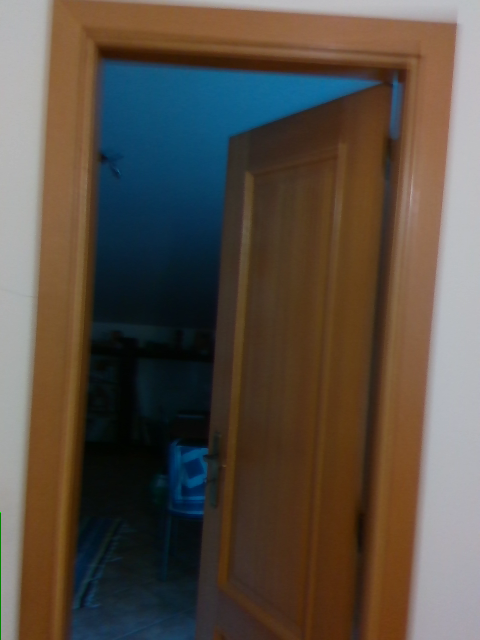semi: (22, 2, 457, 639)
